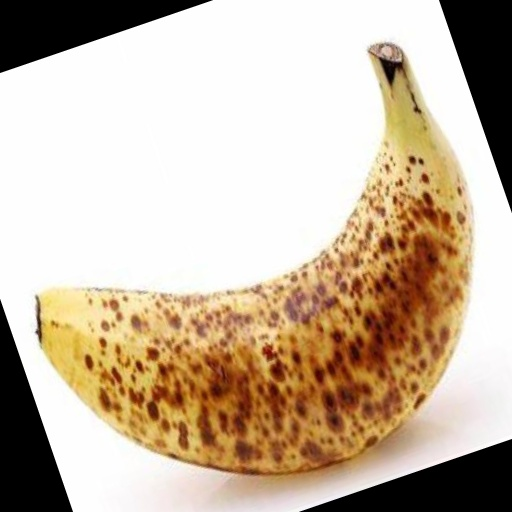fruit: (392, 15, 512, 286)
